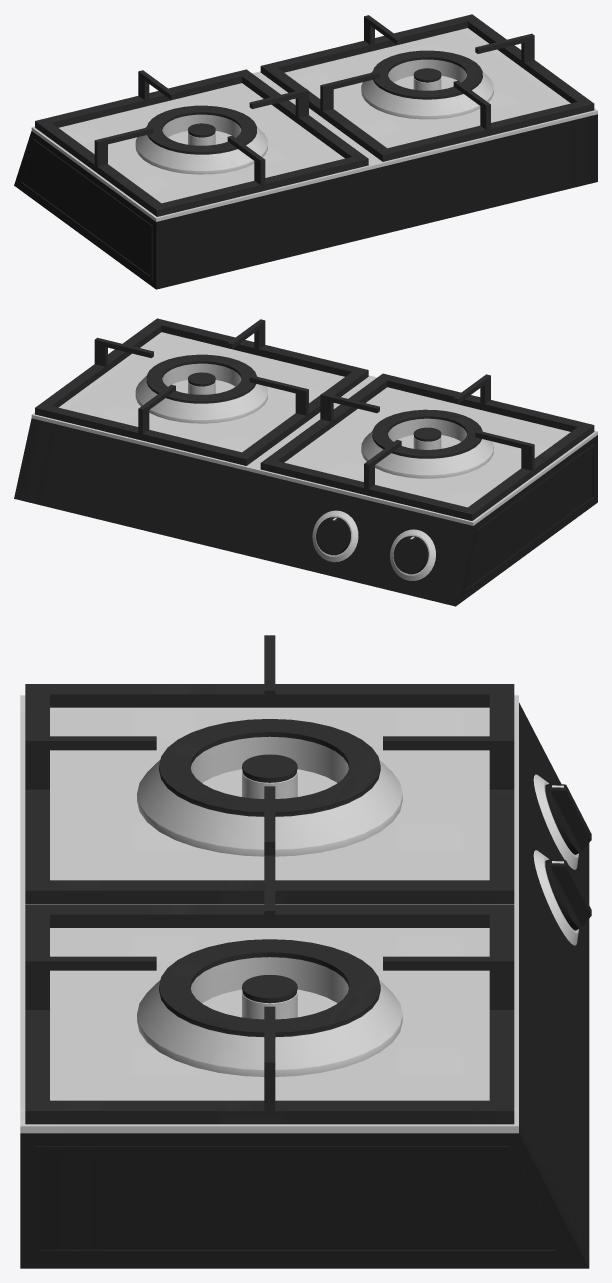
File: GasStove01.glb
3 renders of one model, top to bottom at view 1: azimuth 30°, elevation 25°; view 2: azimuth 150°, elevation 25°; view 3: azimuth 270°, elevation 25°, orthographic. The views are drawn at different scales.
Parts seen in each view (by area): view 1: GasStove01_model; view 2: GasStove01_model, GasStove01_Knob02, GasStove01_Knob01; view 3: GasStove01_model, GasStove01_Knob02, GasStove01_Knob01.
Part boxes in pixels (x1,y1,x2,y2): GasStove01_model: (14,14,597,289); GasStove01_model: (14,318,597,606); GasStove01_Knob02: (393,536,428,574); GasStove01_Knob01: (316,517,350,555); GasStove01_model: (20,635,589,1268); GasStove01_Knob02: (545,783,591,854); GasStove01_Knob01: (545,858,591,930).
Bounding box in the file's own units: 1.3 × 0.2853 × 0.7231.
Materials: 1 (1 with a texture image).
